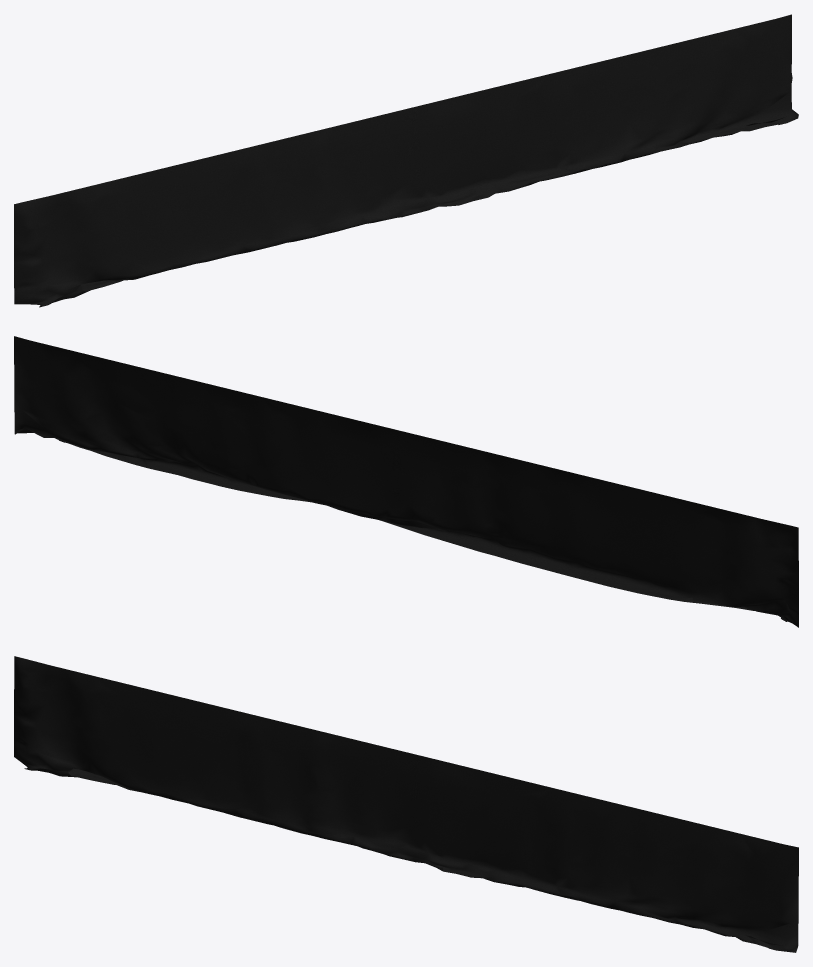
The model's file is StageCurtain02_2.FBX.
3 views of the same model, one above another, from view 1: azimuth 30°, elevation 25°; view 2: azimuth 150°, elevation 25°; view 3: azimuth 330°, elevation 25° (orthographic).
Parts seen in each view (by area): view 1: StageCurtain02_2; view 2: StageCurtain02_2; view 3: StageCurtain02_2.
Boxes of the visible parts, x1,y1,x2,y2 form: StageCurtain02_2: (14, 14, 798, 307); StageCurtain02_2: (14, 336, 798, 627); StageCurtain02_2: (14, 656, 798, 952).
Bounding box in the file's own units: 851 × 107 × 27.96.
